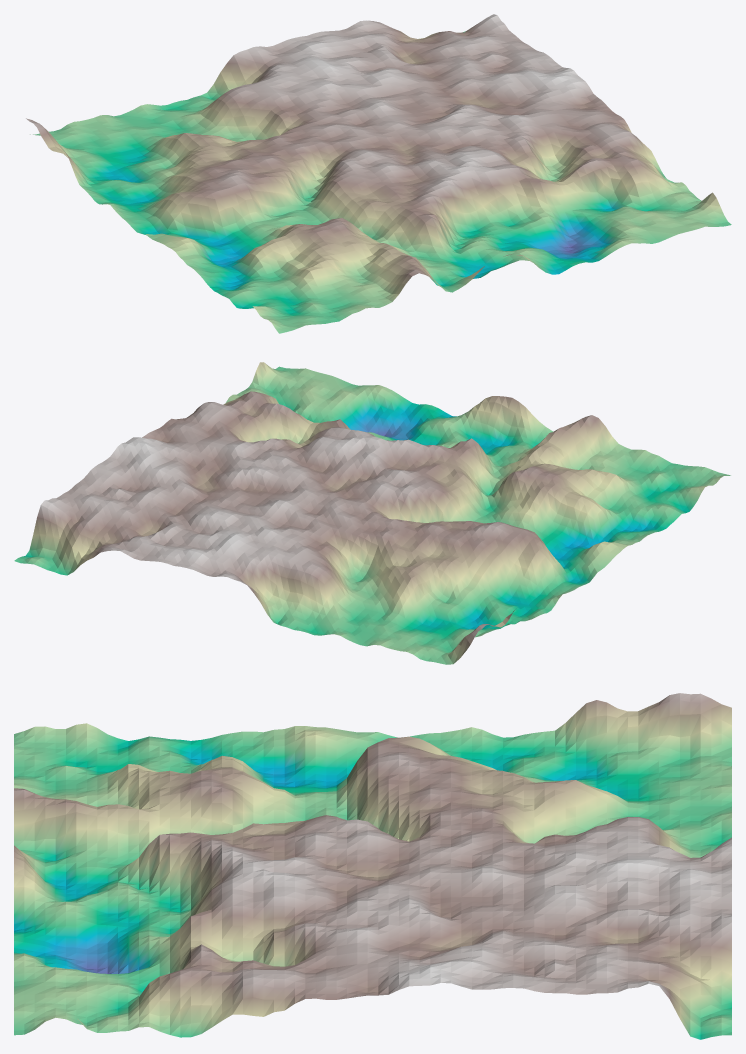
Rendered from 003683_terrain_only.glb.
3 renders of one model, top to bottom at view 1: azimuth 30°, elevation 25°; view 2: azimuth 150°, elevation 25°; view 3: azimuth 270°, elevation 25°, orthographic. The views are drawn at different scales.
Parts seen in each view (by area): view 1: terrain; view 2: terrain; view 3: terrain.
Boxes of the visible parts, left/top/right/bottom form: terrain: left=26, top=14, right=731, bottom=333; terrain: left=14, top=362, right=730, bottom=664; terrain: left=14, top=693, right=731, bottom=1039.
Size of the model in its own units: 0.0183 by 0.00221 by 0.0186.
